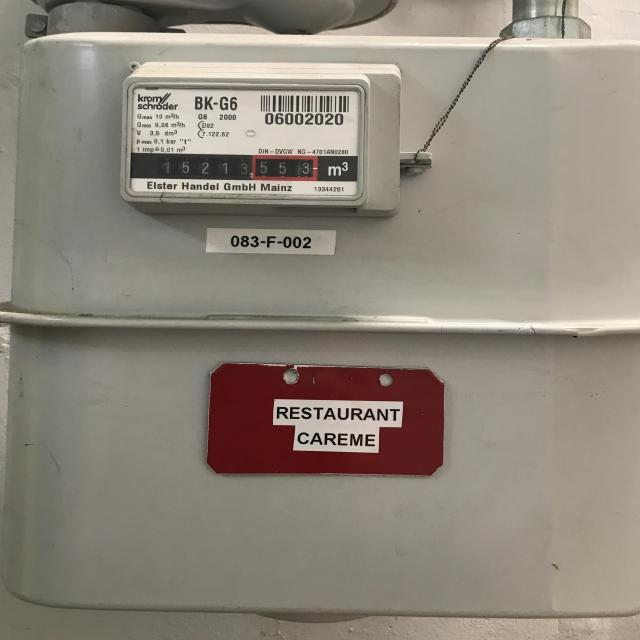gaz_meter: (123, 84, 368, 202)
indication: (147, 154, 320, 180)
